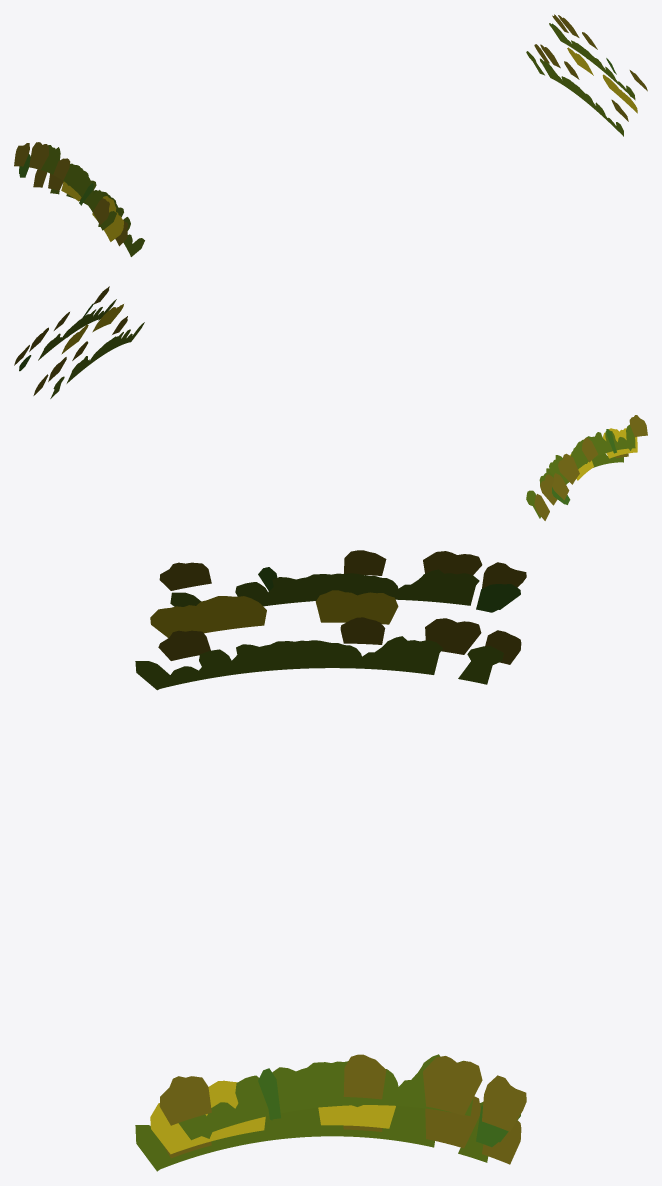
Rendered from tree_line_high.FBX.
3 renders of one model, top to bottom at view 1: azimuth 30°, elevation 25°; view 2: azimuth 150°, elevation 25°; view 3: azimuth 270°, elevation 25°, orthographic. The views are drawn at different scales.
Parts seen in each view (by area): view 1: Plane010; view 2: Plane010; view 3: Plane010.
Part boxes in pixels (x1=…): Plane010: x1=14, y1=14, x2=647, y2=256; Plane010: x1=14, y1=286, x2=647, y2=520; Plane010: x1=135, y1=550, x2=526, y2=1171.
Size of the model in its own units: 44142 by 4926 by 13578.
